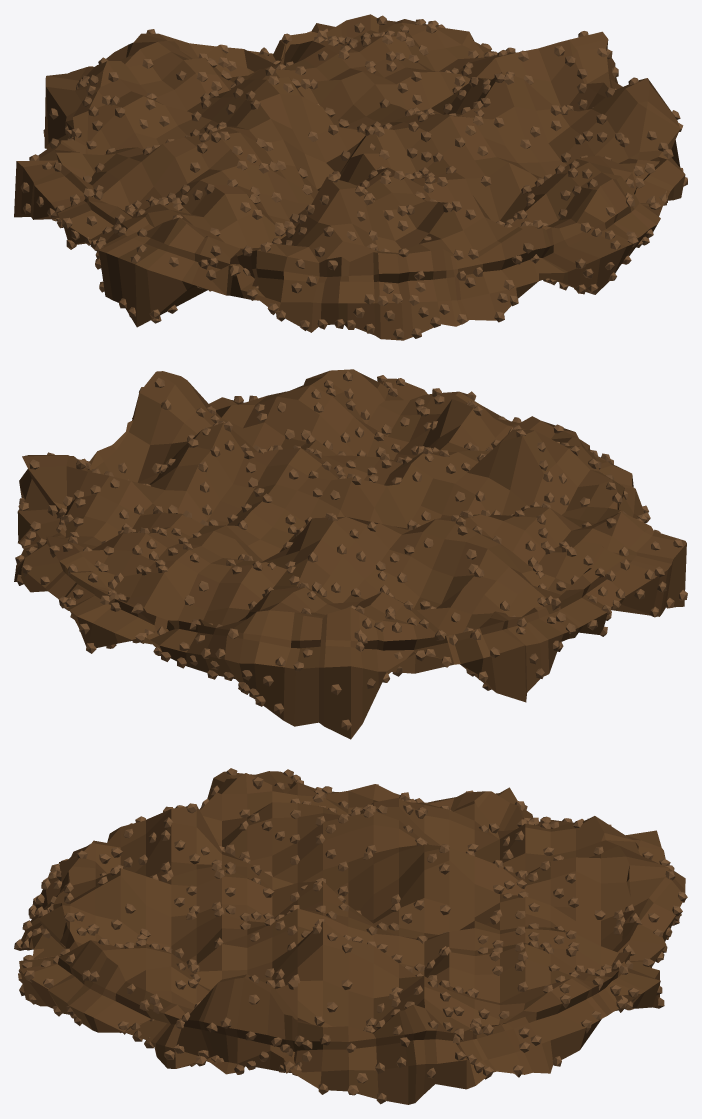
File: dirt.fbx
3 views of the same model, one above another, from view 1: azimuth 30°, elevation 25°; view 2: azimuth 150°, elevation 25°; view 3: azimuth 270°, elevation 25° (orthographic).
Visible parts, largest first — view 1: DirtGround; view 2: DirtGround; view 3: DirtGround.
Boxes of the visible parts, <box> form: DirtGround: <box>14,14,685,340</box>; DirtGround: <box>14,369,686,739</box>; DirtGround: <box>19,771,685,1104</box>.
Size of the model in its own units: 232 by 57.72 by 228.
